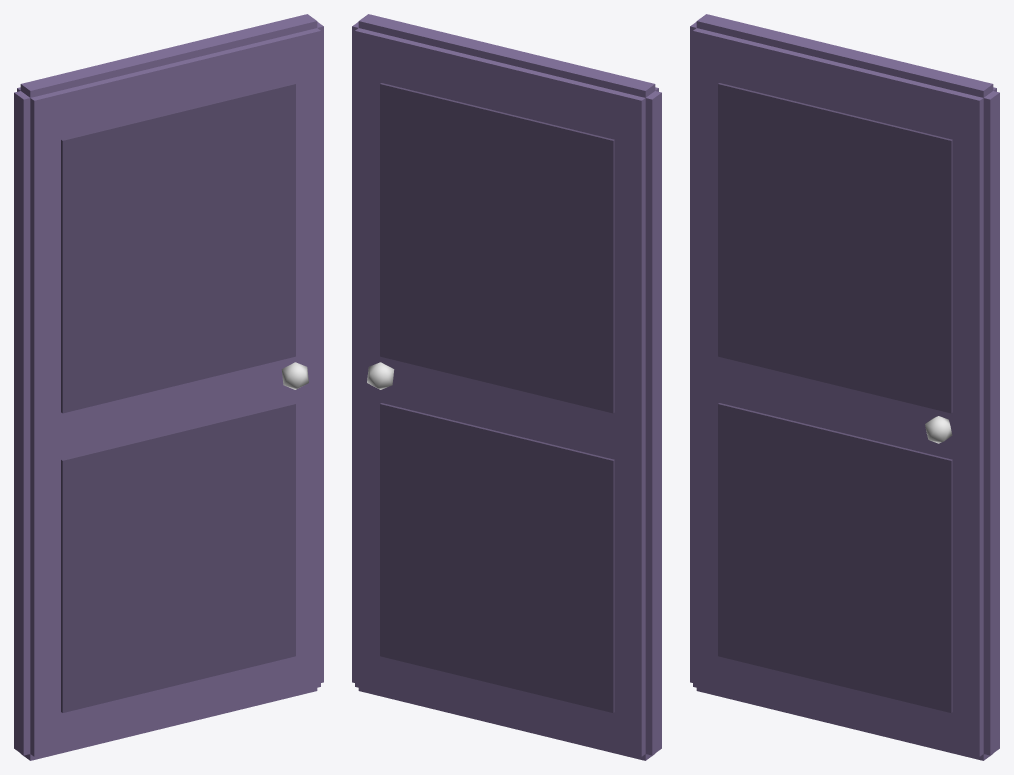
The model's file is ebonwood_door_v0.glb.
3 views of the same model, side by side, from view 1: azimuth 30°, elevation 25°; view 2: azimuth 150°, elevation 25°; view 3: azimuth 330°, elevation 25° (orthographic).
Visible parts, largest first — view 1: ebonwood_door_v0; view 2: ebonwood_door_v0; view 3: ebonwood_door_v0.
Part boxes in pixels (<box>): ebonwood_door_v0: <box>14,14,323,760</box>; ebonwood_door_v0: <box>352,14,661,760</box>; ebonwood_door_v0: <box>690,14,999,760</box>.
Bounding box in the file's own units: 0.9 × 1.92 × 0.2381.
